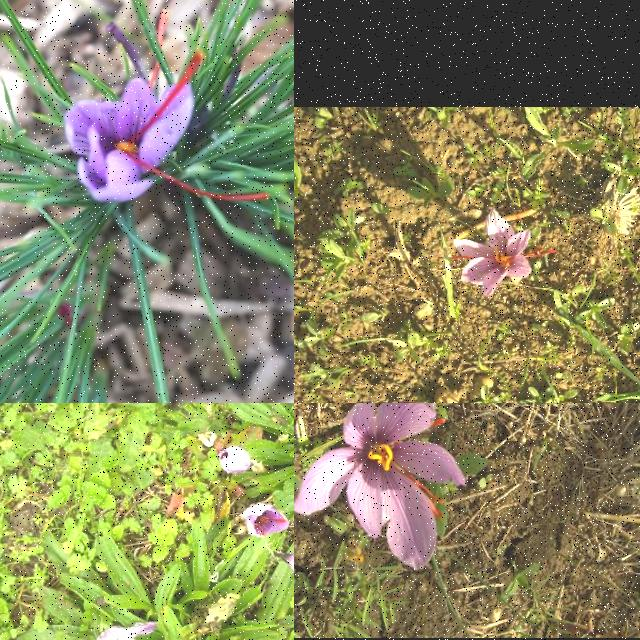flower: (65, 10, 269, 204), (294, 403, 467, 572), (452, 210, 556, 296), (243, 502, 291, 538), (218, 444, 252, 474), (281, 550, 294, 593)
